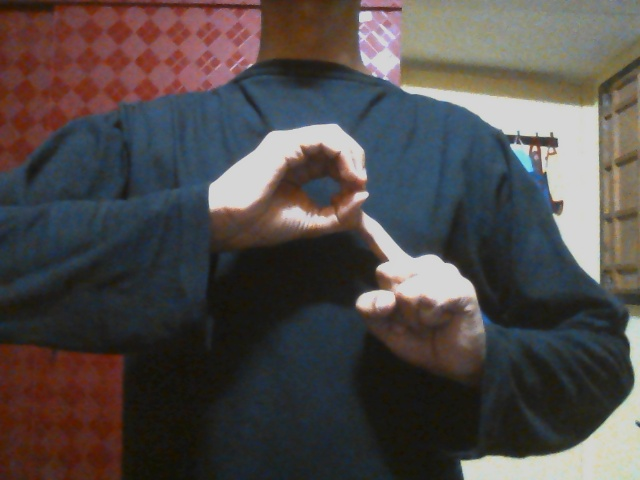Q: (226, 121, 485, 386)
